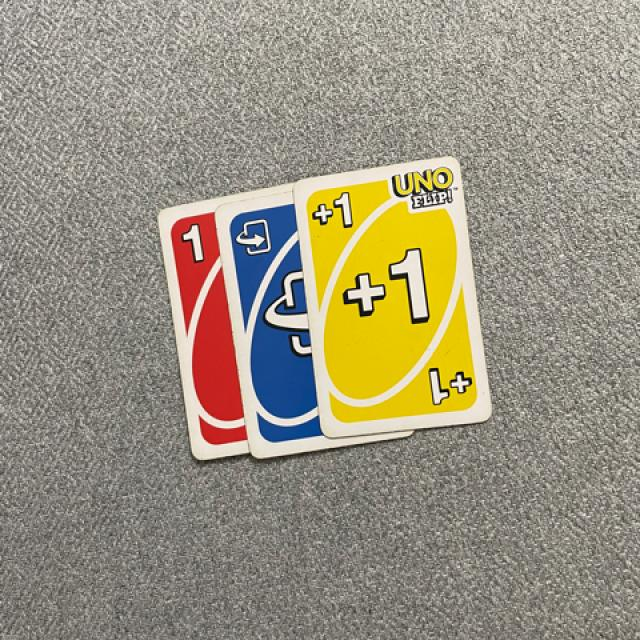lred-1: (169, 215, 212, 271)
